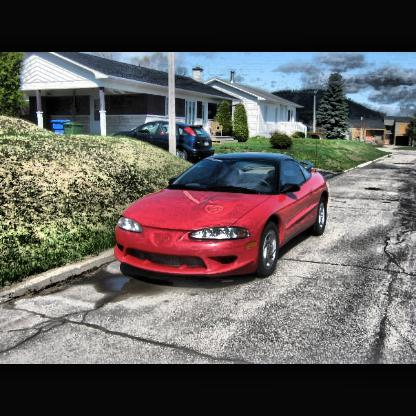Eagle Talon Hatchback 1998: (116, 154, 330, 276)
